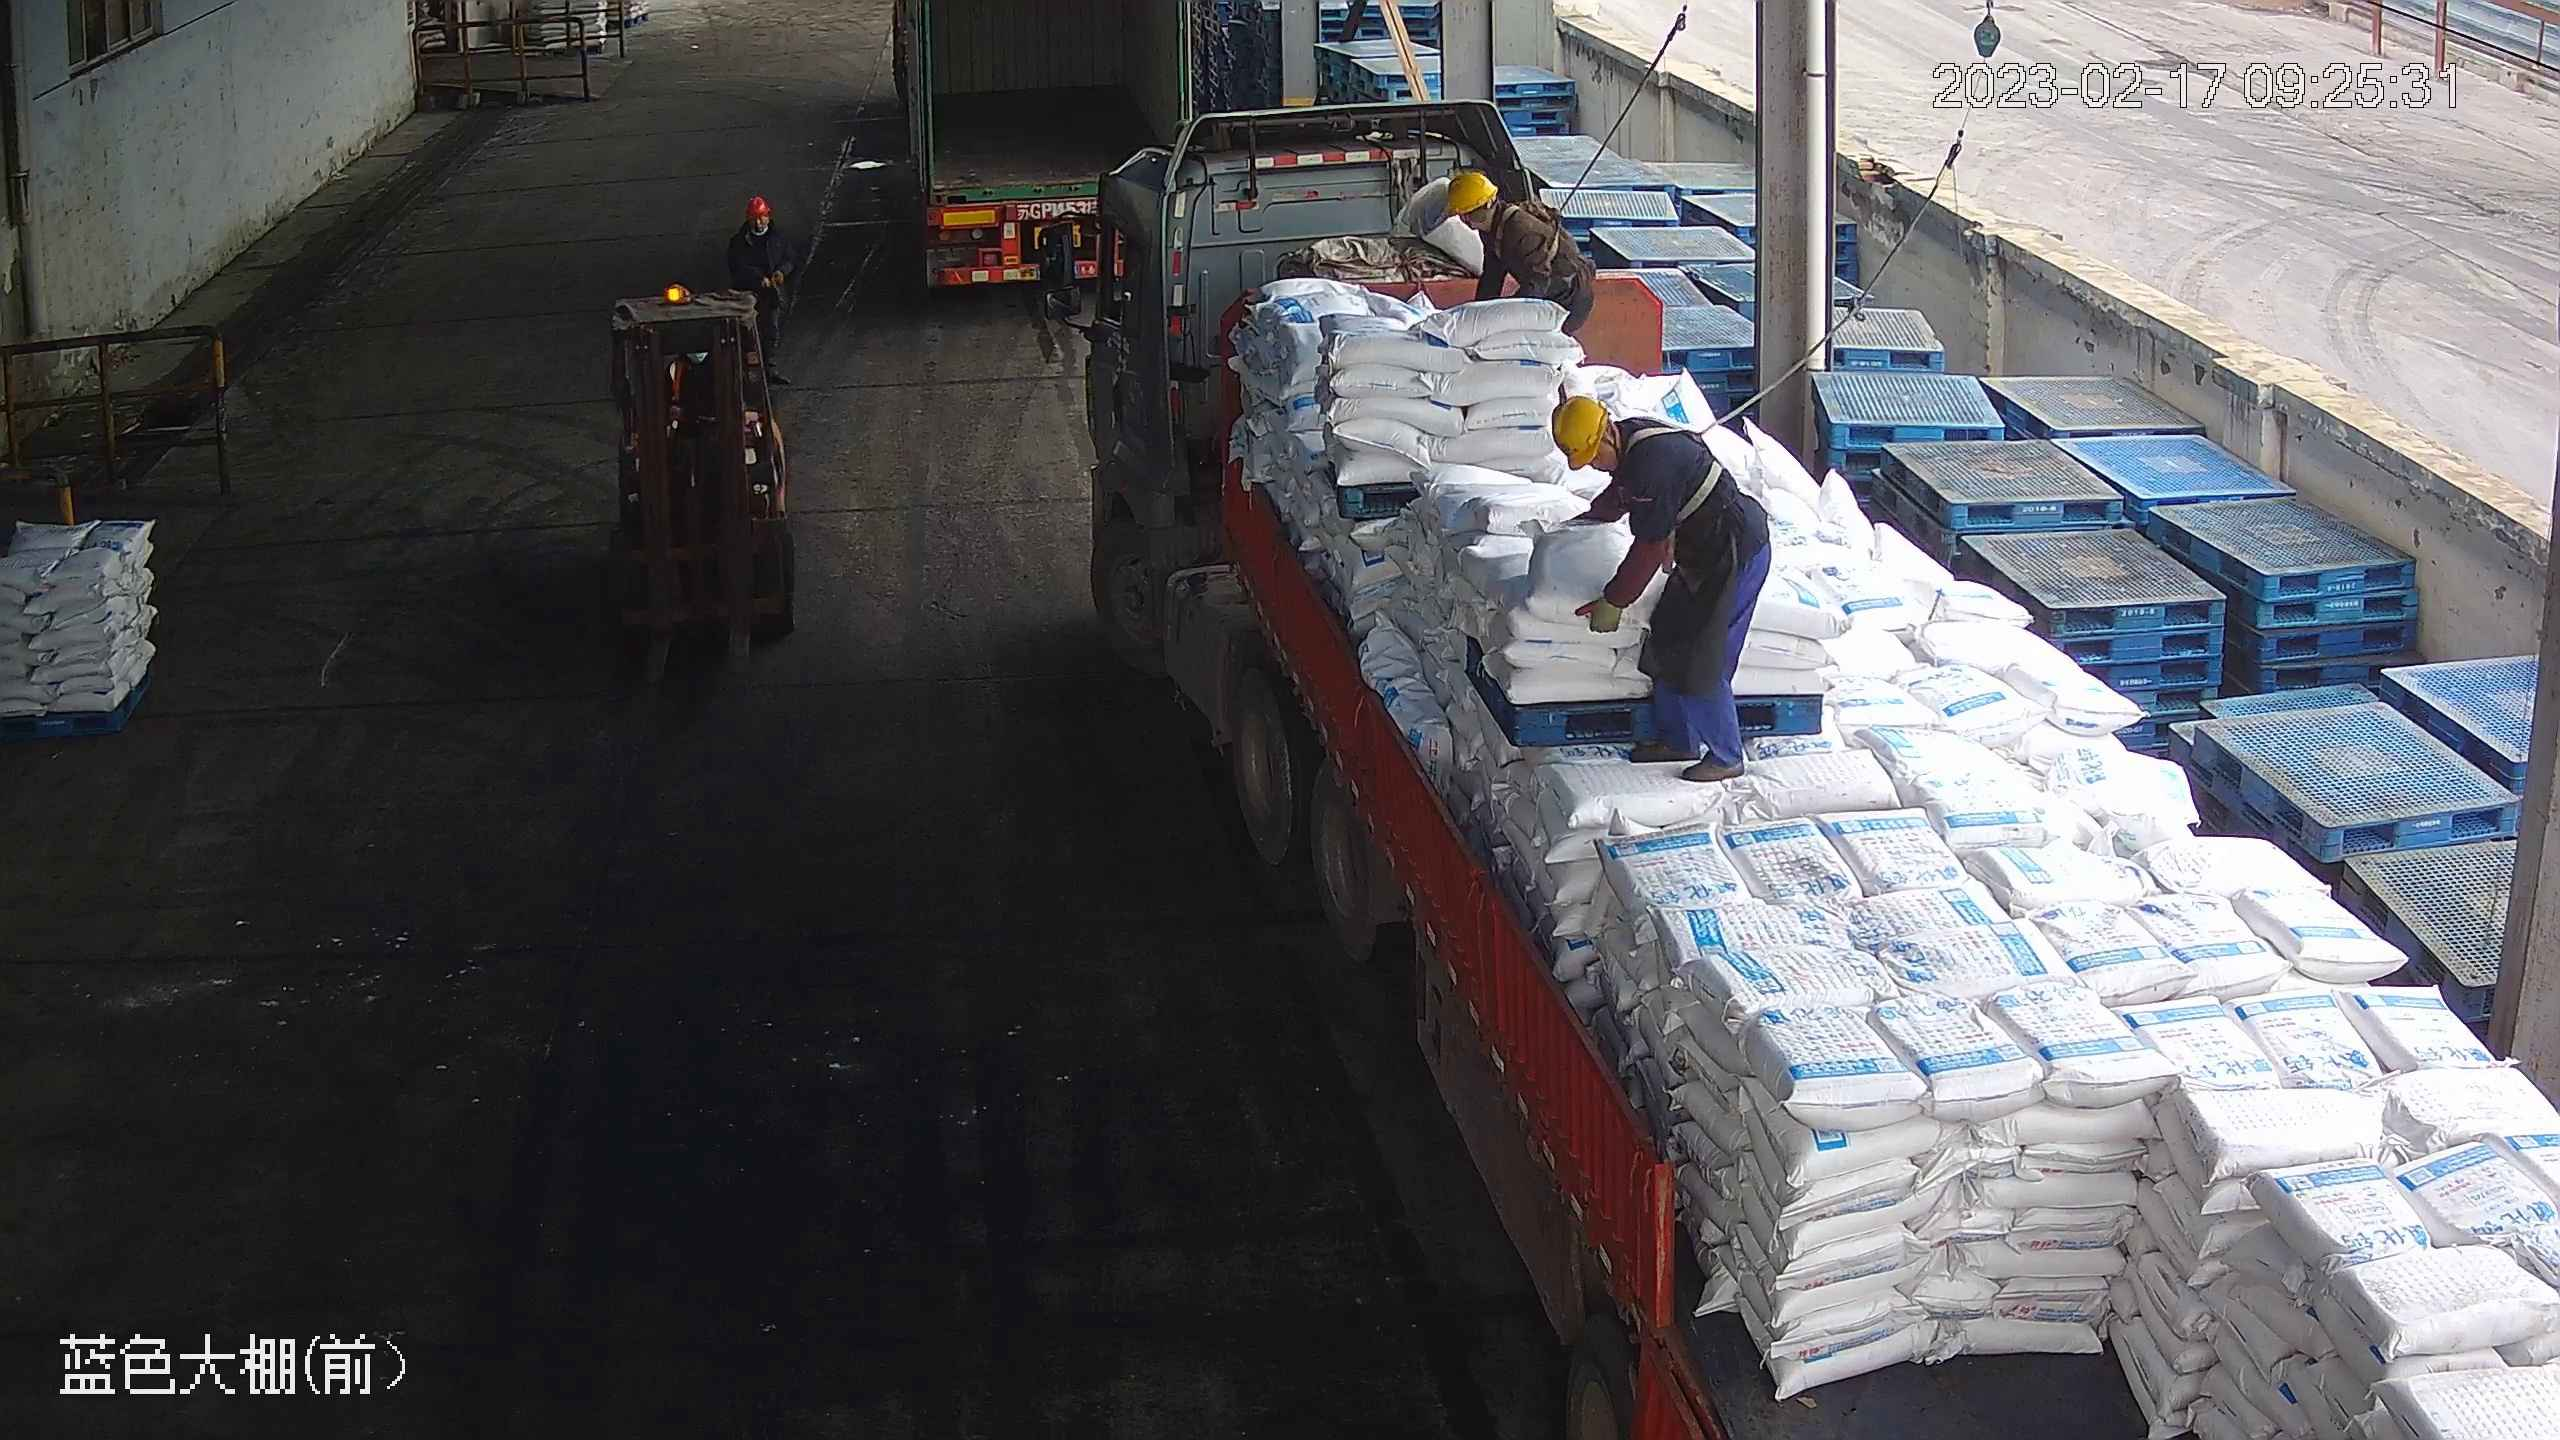belt: (1620, 408, 1732, 512), (1495, 193, 1564, 255)
head: (1550, 388, 1692, 503), (1440, 166, 1551, 246), (734, 193, 785, 252)
helmet: (1549, 388, 1611, 468), (1441, 167, 1498, 217), (745, 193, 773, 214)
people: (1550, 386, 1776, 785), (729, 192, 791, 384)
truck: (1044, 149, 2556, 1439), (871, 1, 1195, 293)
